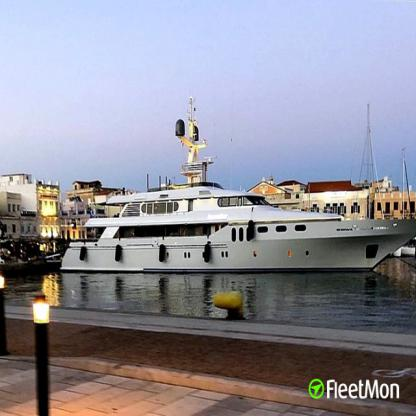Yacht: (60, 95, 415, 274)
